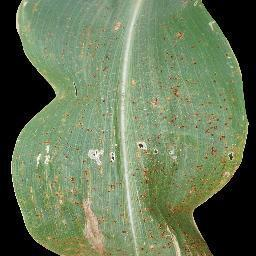Corn_Common_Rust: (0, 110, 256, 256), (145, 0, 255, 107), (35, 53, 114, 111), (15, 0, 75, 62), (81, 6, 122, 55), (116, 73, 154, 111)
